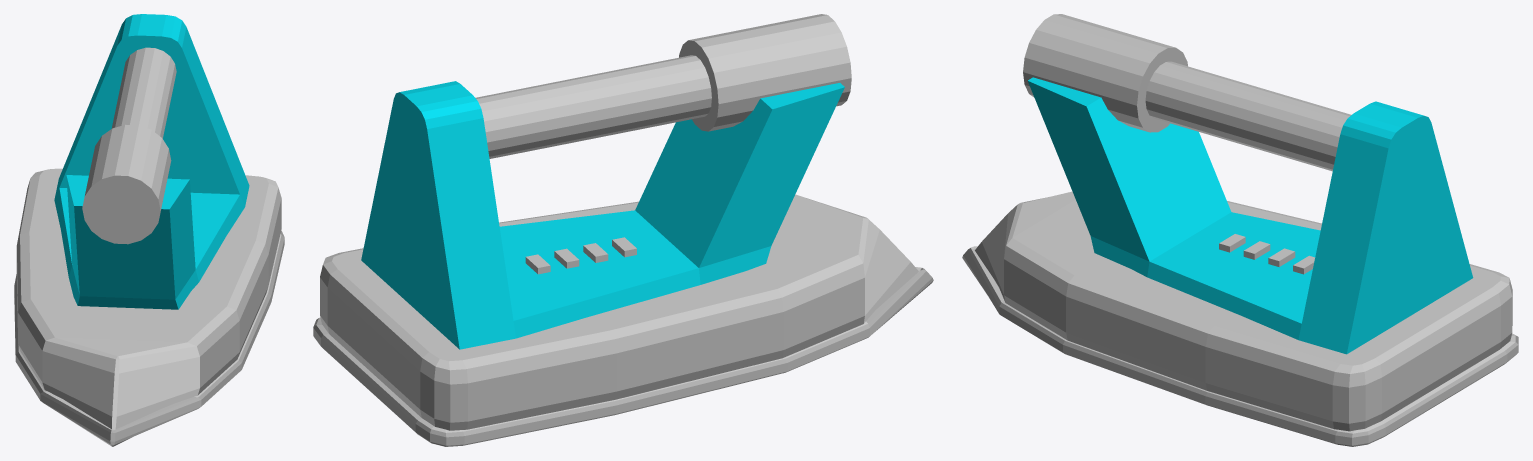
Rendered from 0925306b-9663-4108-afb4-cf324462d18f.glb.
The picture shows the model from 3 angles, left to right: view 1: azimuth 30°, elevation 25°; view 2: azimuth 150°, elevation 25°; view 3: azimuth 270°, elevation 25°; orthographic projection. The views are drawn at different scales.
Parts seen in each view (by area): view 1: Box001, Box002, Cylinder001, Box003; view 2: Box002, Box001, Cylinder001, Box003; view 3: Box002, Box001, Cylinder001, Box003.
Part boxes in pixels (left/top/right/bottom): Box001: left=16, top=168, right=281, bottom=429; Box002: left=54, top=14, right=249, bottom=309; Cylinder001: left=82, top=47, right=176, bottom=244; Box003: left=14, top=231, right=284, bottom=446; Box002: left=361, top=81, right=844, bottom=349; Box001: left=320, top=194, right=918, bottom=430; Cylinder001: left=475, top=14, right=851, bottom=158; Box003: left=313, top=267, right=933, bottom=446; Box002: left=1028, top=77, right=1473, bottom=354; Box001: left=975, top=191, right=1512, bottom=431; Cylinder001: left=1023, top=14, right=1351, bottom=171; Box003: left=962, top=246, right=1518, bottom=446.
Bounding box in the file's own units: 2708909 × 1739094 × 3254214.
